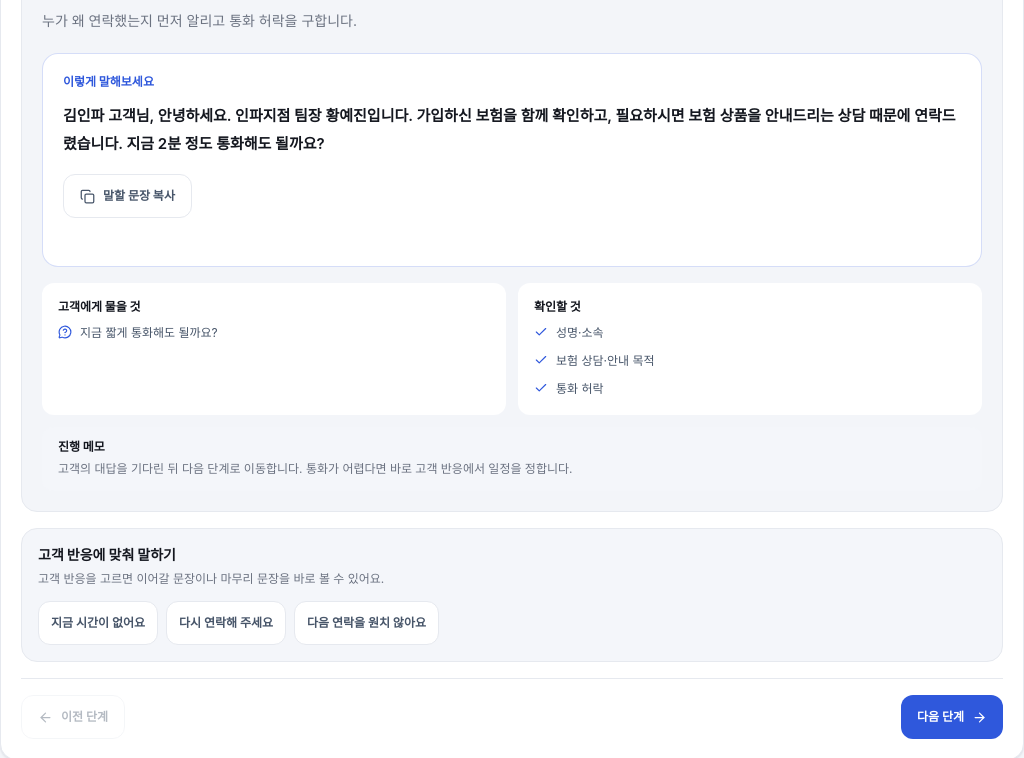
GuidedTalkPlaybooks › opens an objection branch, moves focus, and returns focus when closed
This screenshot has width=1024, height=758.
(page scrolled)
Step 1. Click the button "지금 시간이 없어요" → click(98, 623), box x1=38 y1=601 x2=158 y2=645
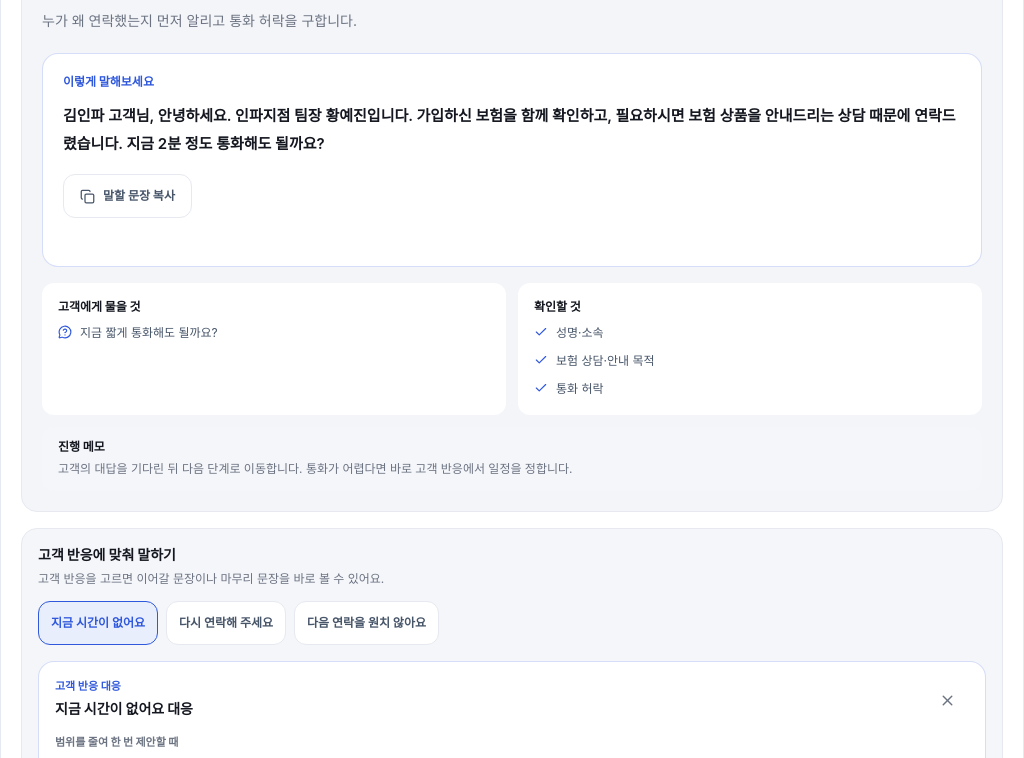
expect the button "지금 시간이 없어요" is expanded: met, box x1=38 y1=601 x2=158 y2=645
Step 2. Click the button named "대응 닫기" → click(947, 700), box x1=925 y1=678 x2=969 y2=722
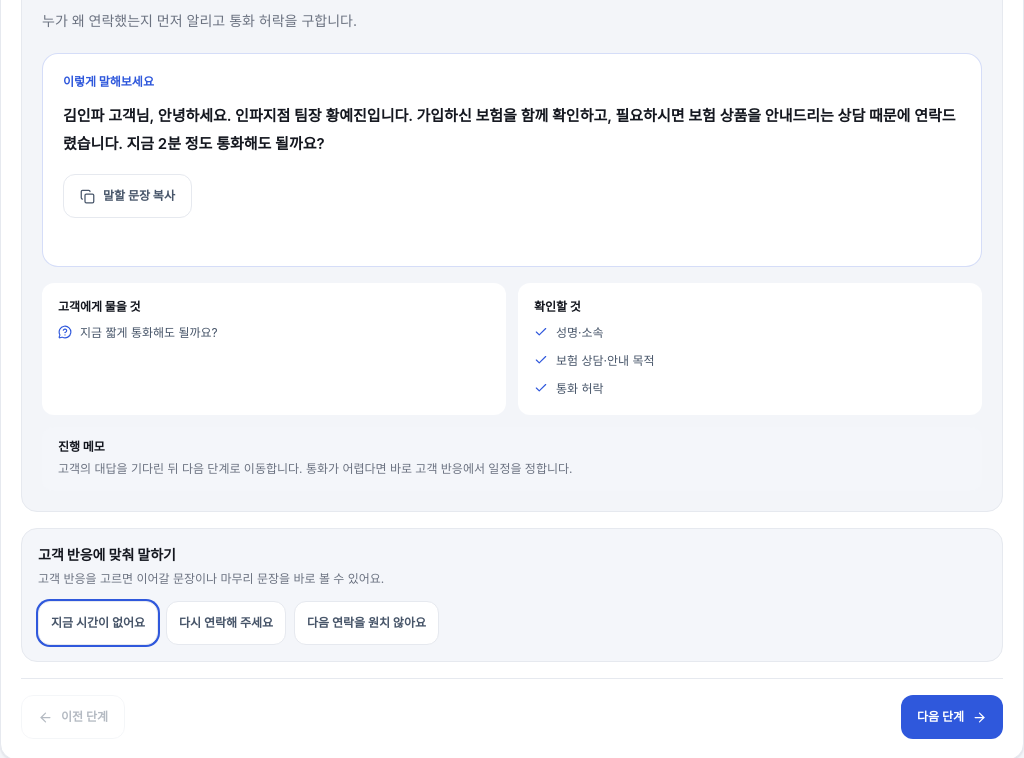
expect the button "지금 시간이 없어요" is collapsed: met, box x1=38 y1=601 x2=158 y2=645
